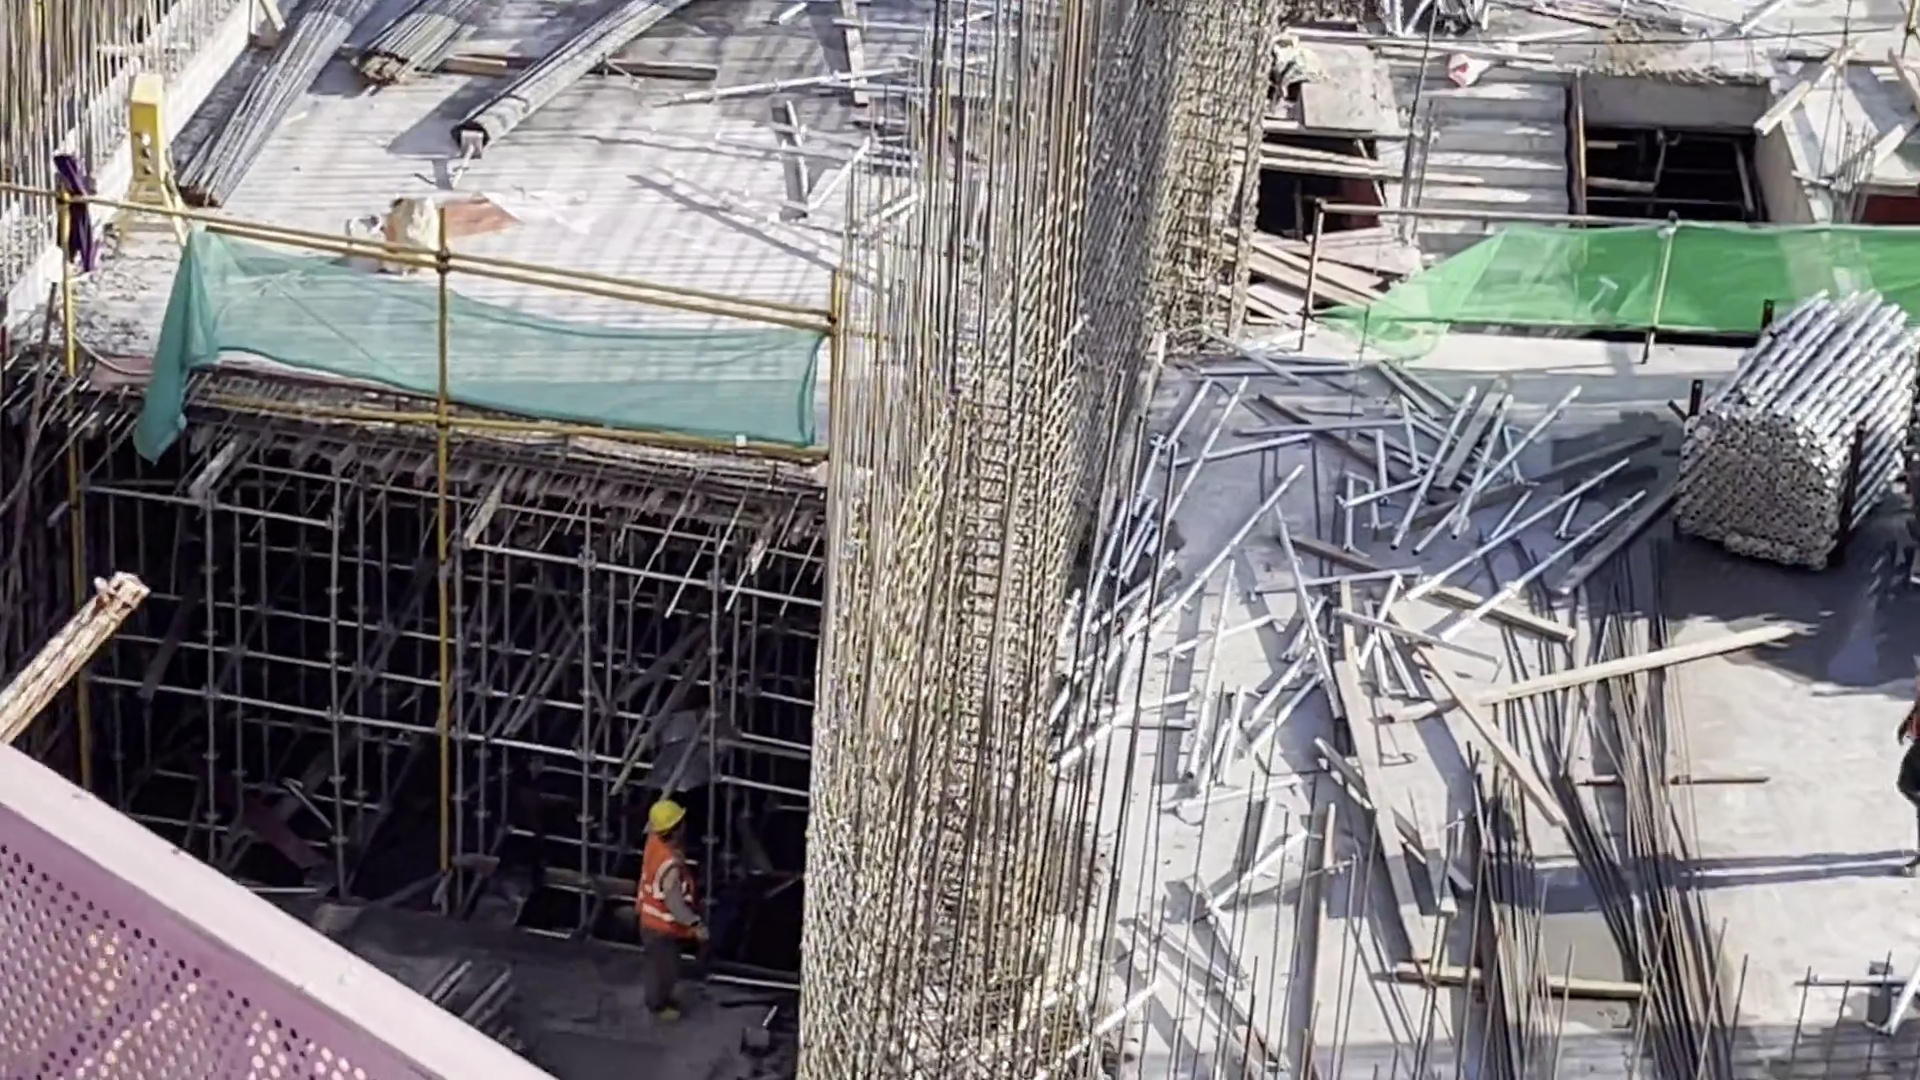ebox: (126, 80, 170, 228)
fence: (10, 741, 529, 1080)
helmet: (645, 801, 693, 835)
person: (631, 802, 701, 1028)
rebar: (1592, 642, 1719, 1080), (1465, 767, 1568, 1080), (201, 1, 362, 197), (462, 10, 667, 155), (367, 4, 487, 81)
scaffold: (1689, 309, 1917, 536)
vest: (630, 846, 692, 948)
